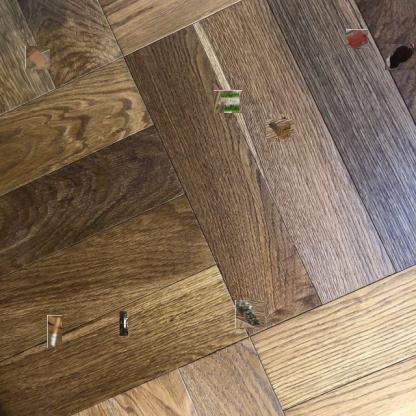dirty: (235, 300, 264, 329), (214, 90, 242, 113), (26, 45, 50, 70), (268, 116, 292, 140), (47, 315, 62, 348), (117, 308, 131, 338)
liquid: (386, 44, 416, 70), (347, 28, 368, 49)
